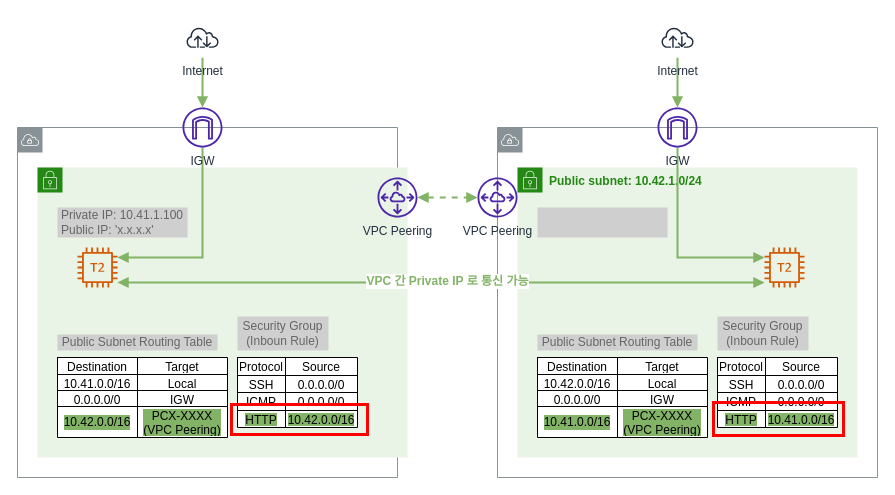
The diagram is 895 pixels wide and 495 high, and some of its shapes have lost their labels. Here are the shapes that lost their labels. From the top down, the box of each, then its label:
(537, 207, 667, 237): Private IP: 10.42.1.100 Public IP: 'x.x.x.x'
(77, 247, 117, 287): ljhVPC1-EC2
(764, 247, 804, 287): ljhVPC2-EC2
(16, 126, 398, 478): ljhVPC1: 10.41.0.0/16
(36, 166, 408, 458): Public subnet: 10.41.1.0/24
(496, 126, 878, 478): ljhVPC2: 10.42.0.0/16
